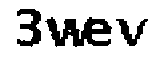3: (14, 4, 43, 51)
e: (87, 16, 114, 52)
v: (115, 16, 149, 52)
w: (45, 15, 86, 52)
